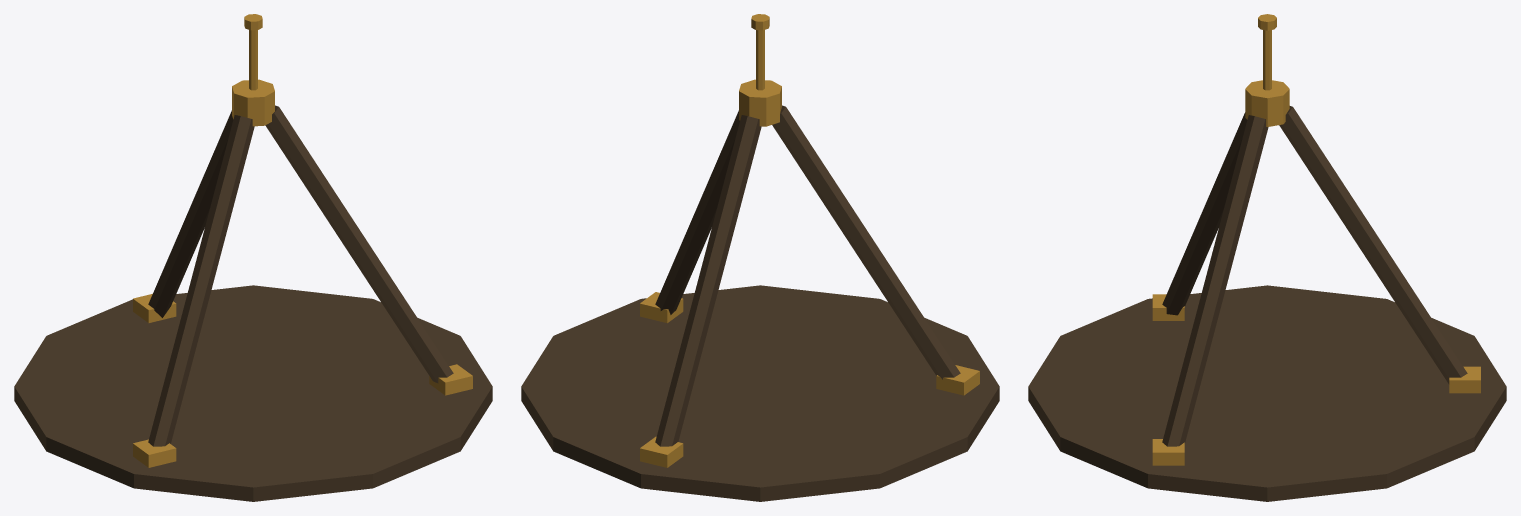
Rendered from LairCenturyDialStand.fbx.
3 views of the same model, side by side, from view 1: azimuth 30°, elevation 25°; view 2: azimuth 150°, elevation 25°; view 3: azimuth 270°, elevation 25° (orthographic).
Parts seen in each view (by area): view 1: LairCenturyDialStand; view 2: LairCenturyDialStand; view 3: LairCenturyDialStand.
Part boxes in pixels (x1,y1,x2,y2): LairCenturyDialStand: (14,14,492,501); LairCenturyDialStand: (521,14,999,501); LairCenturyDialStand: (1028,14,1506,501).
Size of the model in its own units: 150 by 132 by 150.
2 materials, 2 textured.
